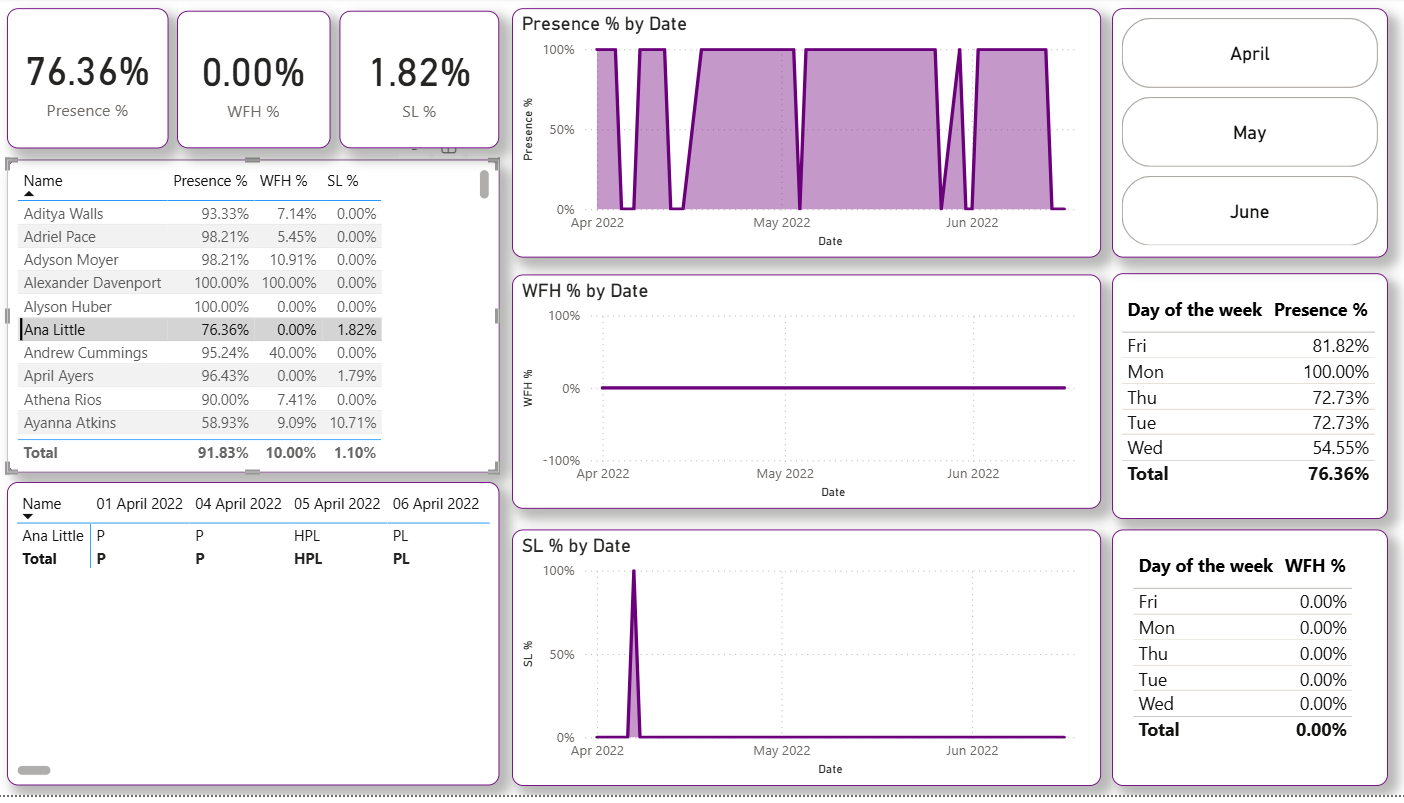

The dashboard page shown, as its layout file describes it:
{"tool":"powerbi","page":{"name":"Presence Insights1","canvas":[1280,720],"ordinal":0},"visuals":[{"type":"tableEx","fields":{"Values":["Final Data.Name","Measure Table.Presence %","Measure Table.WFH %","Measure Table.SL %"]},"box":[13.7,146.8,444.1,282.4],"z":0},{"type":"pivotTable","fields":{"Rows":["Final Data.Name"],"Columns":["Final Data.Date"],"Values":["Min(Final Data.Attendence)"]},"box":[13.7,437.9,444.1,273.7],"z":1000},{"type":"card","fields":{"Values":["Measure Table.Presence %"]},"box":[13.5,10.1,145.4,126.2],"z":2000},{"type":"card","fields":{"Values":["Measure Table.WFH %"]},"box":[166.7,12.4,138.1,124.4],"z":3000},{"type":"card","fields":{"Values":["Measure Table.SL %"]},"box":[313.3,12.4,144.3,124],"z":4000},{"type":"areaChart","fields":{"Y":["Measure Table.Presence %"],"Category":["Final Data.Date"]},"box":[469,10,531.2,225.2],"z":5000},{"type":"areaChart","fields":{"Y":["Measure Table.WFH %"],"Category":["Final Data.Date"]},"box":[469,250,531.2,211.5],"z":6000},{"type":"areaChart","fields":{"Category":["Final Data.Date"],"Y":["Measure Table.SL %"]},"box":[469,480.2,531.2,231.4],"z":7000},{"type":"tableEx","fields":{"Values":["Final Data.Day of the week","Measure Table.Presence %"]},"box":[1010.1,248.8,248.8,221.4],"z":8000},{"type":"tableEx","fields":{"Values":["Final Data.Day of the week","Measure Table.WFH %"]},"box":[1010.1,480.2,248.8,231.4],"z":9000},{"type":"advancedSlicerVisual","fields":{"Values":["Final Data.Month 2"]},"box":[1010,10,249,225],"z":10000}]}

Visuals, with their boxes in screenshot pixels (x1, y1, x2, y2), scaled from the page's 1280x720 canvas onto the 1404x803 screenshot:
tableEx - Final Data.Name x Measure Table.Presence %: locate(15, 164, 502, 479)
pivotTable - Final Data.Name x Final Data.Date: locate(15, 488, 502, 794)
card - Measure Table.Presence %: locate(15, 11, 174, 152)
card - Measure Table.WFH %: locate(183, 14, 334, 153)
card - Measure Table.SL %: locate(344, 14, 502, 152)
areaChart - Measure Table.Presence % x Final Data.Date: locate(514, 11, 1097, 262)
areaChart - Measure Table.WFH % x Final Data.Date: locate(514, 279, 1097, 515)
areaChart - Final Data.Date x Measure Table.SL %: locate(514, 536, 1097, 794)
tableEx - Final Data.Day of the week x Measure Table.Presence %: locate(1108, 277, 1381, 524)
tableEx - Final Data.Day of the week x Measure Table.WFH %: locate(1108, 536, 1381, 794)
advancedSlicerVisual - Final Data.Month 2: locate(1108, 11, 1381, 262)
